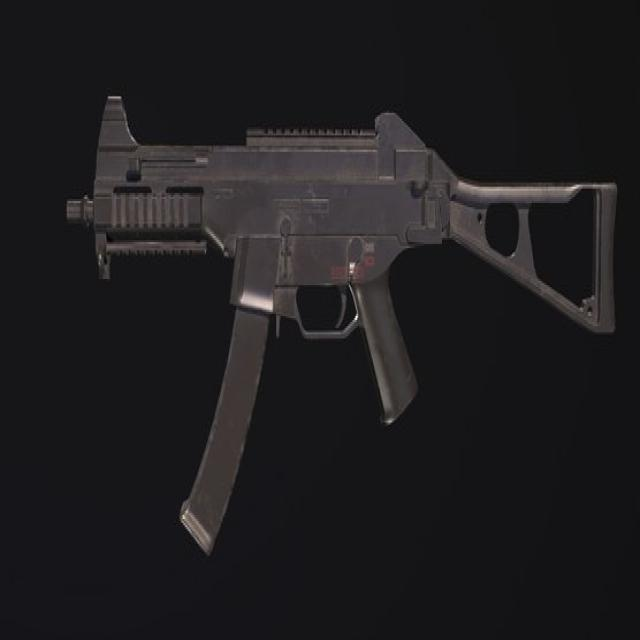Weapon: (67, 96, 616, 552)
